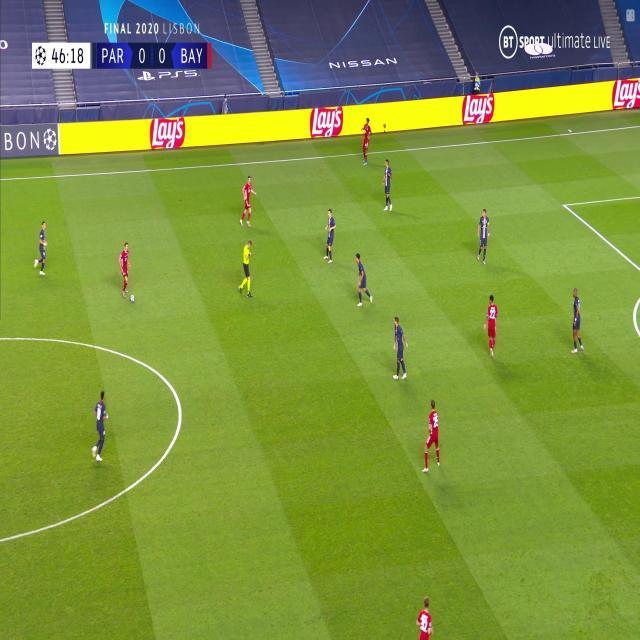ball: (130, 292, 135, 303)
player: (420, 398, 443, 475), (91, 390, 110, 463), (390, 316, 410, 383), (352, 252, 373, 307), (569, 288, 585, 356), (483, 294, 499, 361), (118, 240, 134, 300), (34, 219, 50, 276), (239, 175, 256, 227), (415, 596, 435, 640), (477, 208, 492, 265), (322, 207, 336, 263), (381, 157, 394, 212), (360, 116, 373, 166)
referee: (240, 239, 255, 299)
